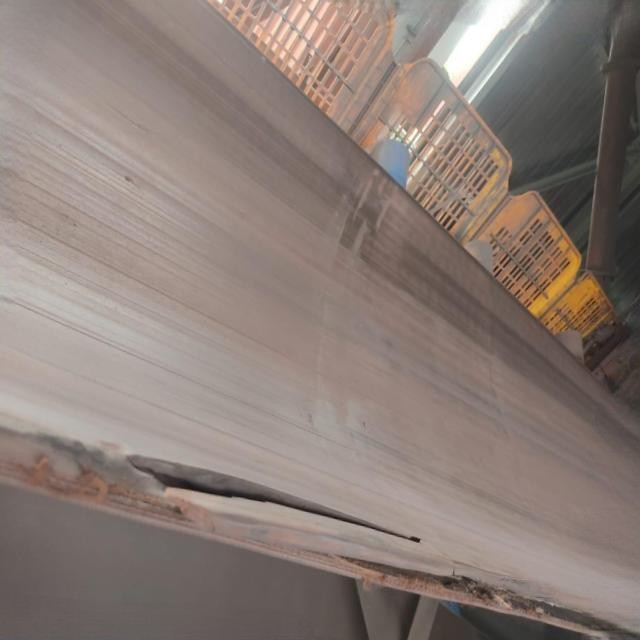Tear: (122, 446, 426, 554)
